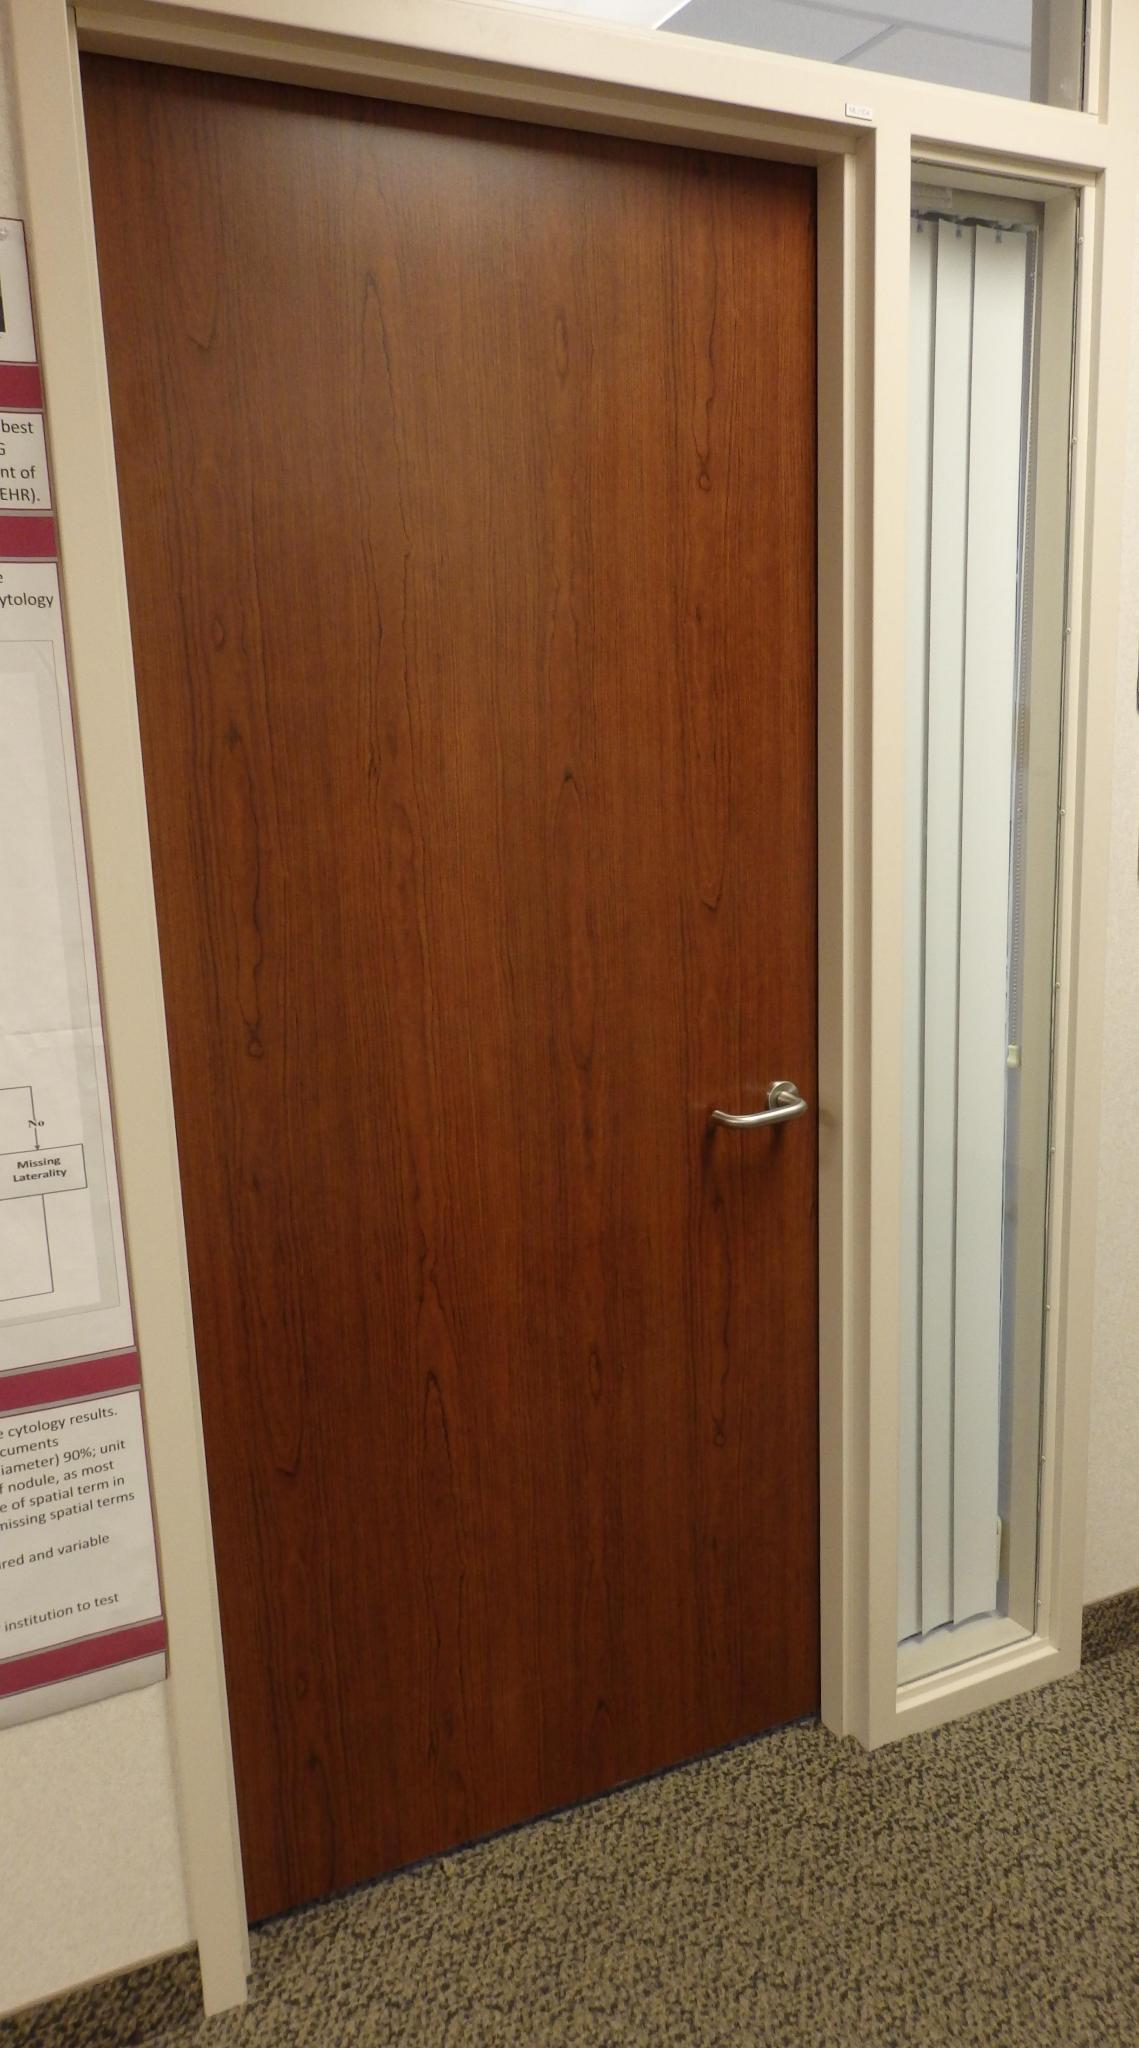door: (194, 144, 818, 1702)
handle: (713, 1044, 802, 1168)
